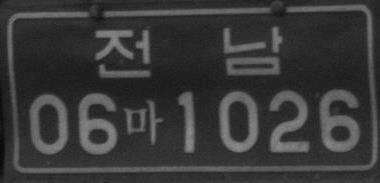0: (217, 89, 260, 155), (28, 93, 69, 155)
1: (169, 89, 207, 154)
2: (268, 88, 309, 154)
6: (318, 88, 361, 152), (76, 92, 119, 155)
마: (123, 99, 164, 146)
전남_D: (94, 24, 285, 78)
